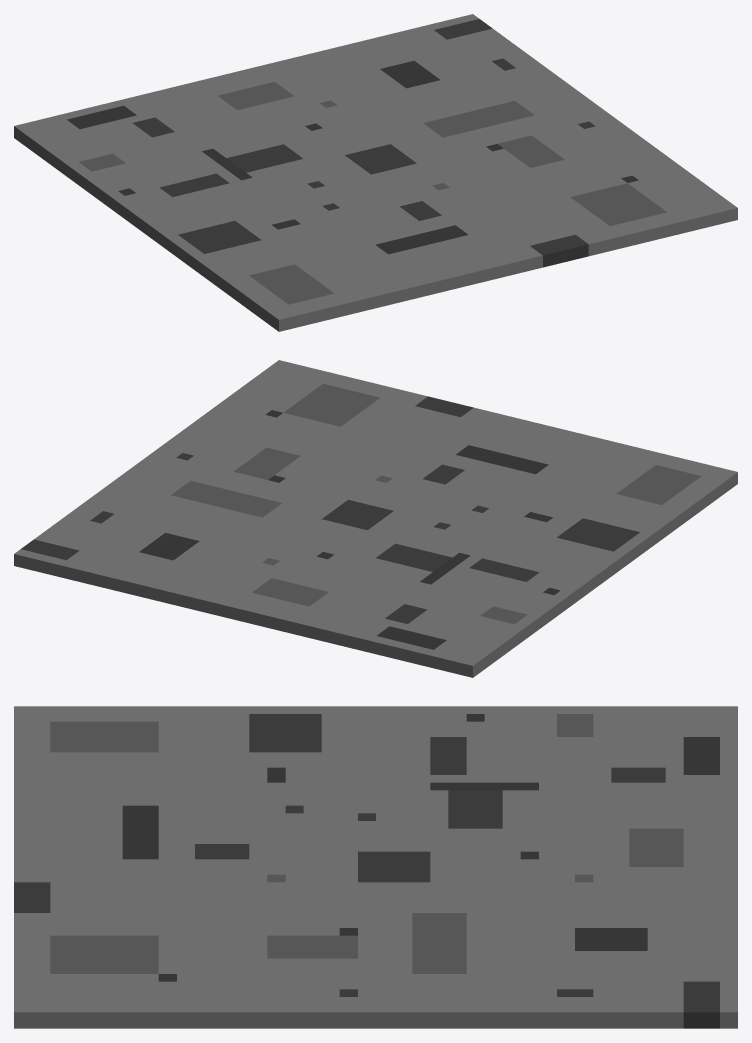
File: road2.obj
The picture shows the model from 3 angles, top to bottom: view 1: azimuth 30°, elevation 25°; view 2: azimuth 150°, elevation 25°; view 3: azimuth 270°, elevation 25°; orthographic projection. The views are drawn at different scales.
Size of the model in its own units: 4 by 0.1 by 4.
Materials: 1 (1 with a texture image).
